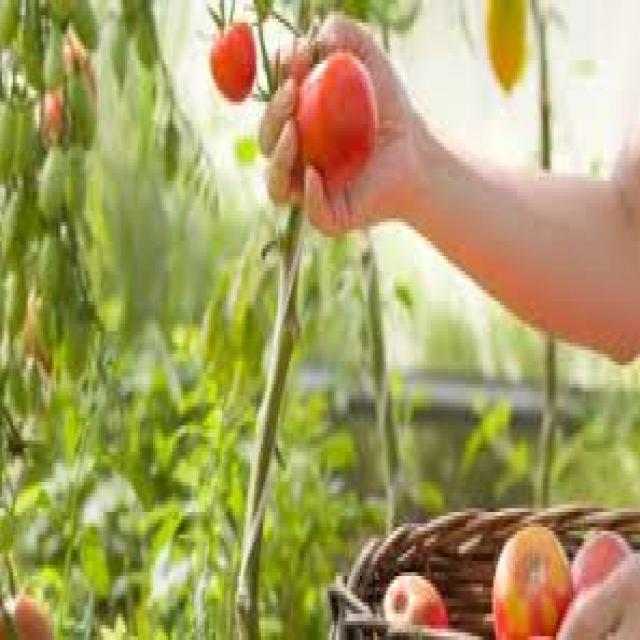organic waste: (295, 49, 377, 184), (489, 524, 573, 636), (58, 26, 93, 143), (379, 565, 444, 625), (482, 0, 526, 87), (209, 19, 254, 98), (569, 527, 631, 584), (9, 591, 56, 636), (32, 87, 65, 143)
